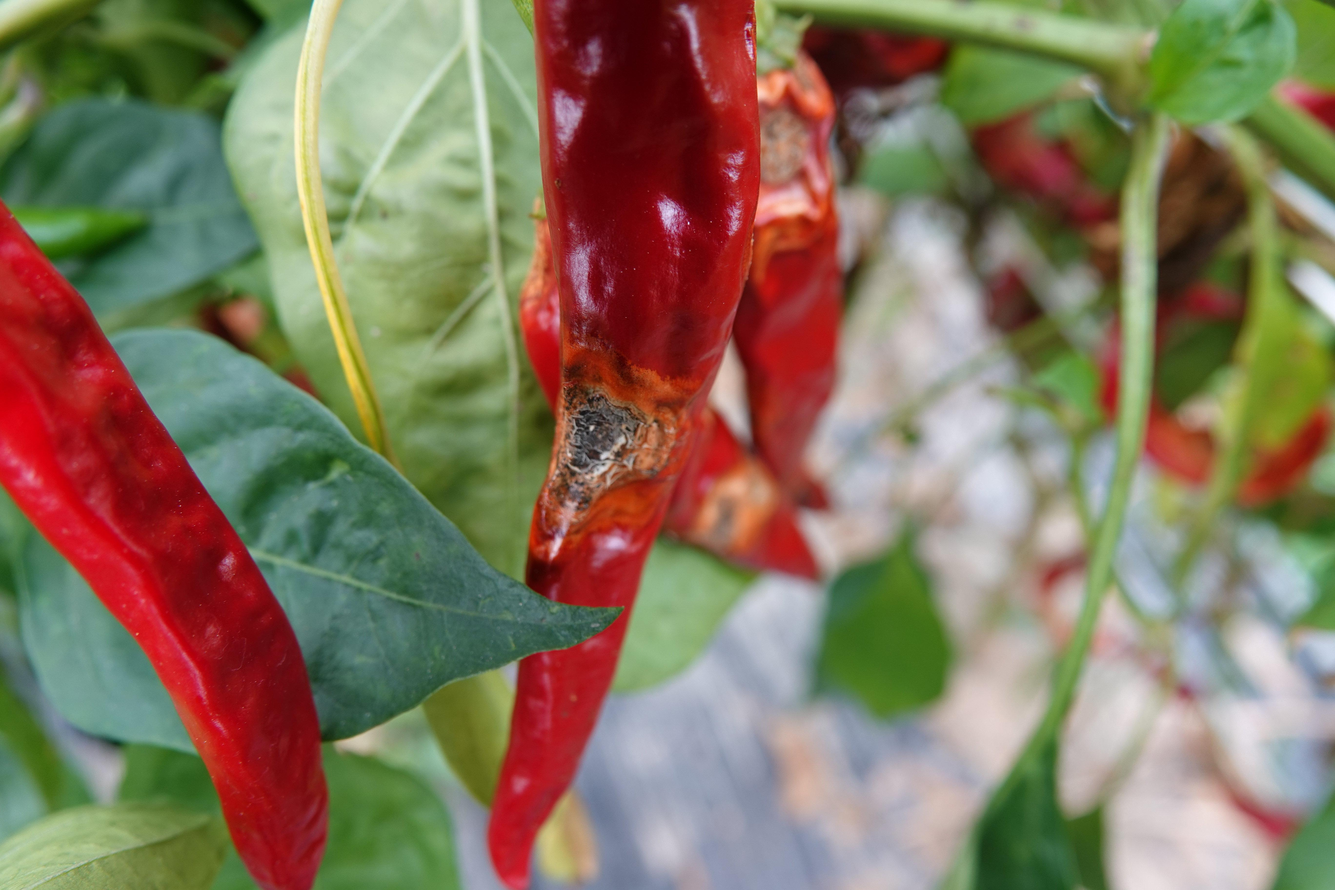Buah Cabai Sehat: (0, 179, 337, 890)
Busuk Buah Antraknosa: (483, 2, 765, 886)
